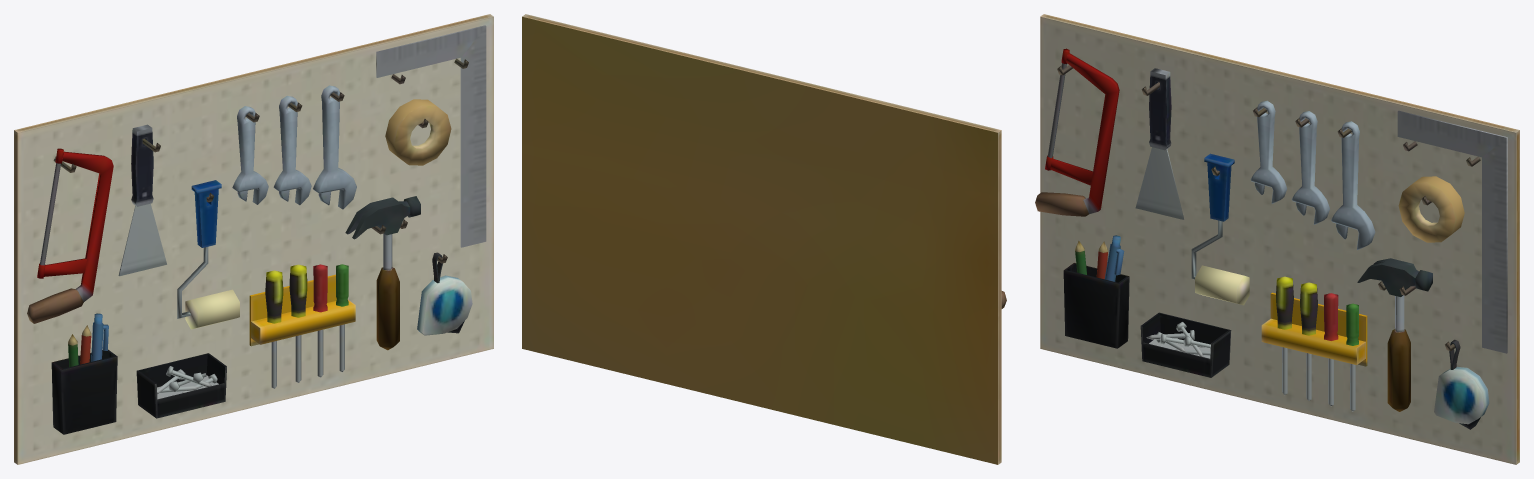
The picture shows the model from 3 angles, left to right: view 1: azimuth 30°, elevation 25°; view 2: azimuth 150°, elevation 25°; view 3: azimuth 330°, elevation 25°; orthographic projection.
Size of the model in its own units: 15 by 10 by 1.25.
Materials: 1 (1 with a texture image).
